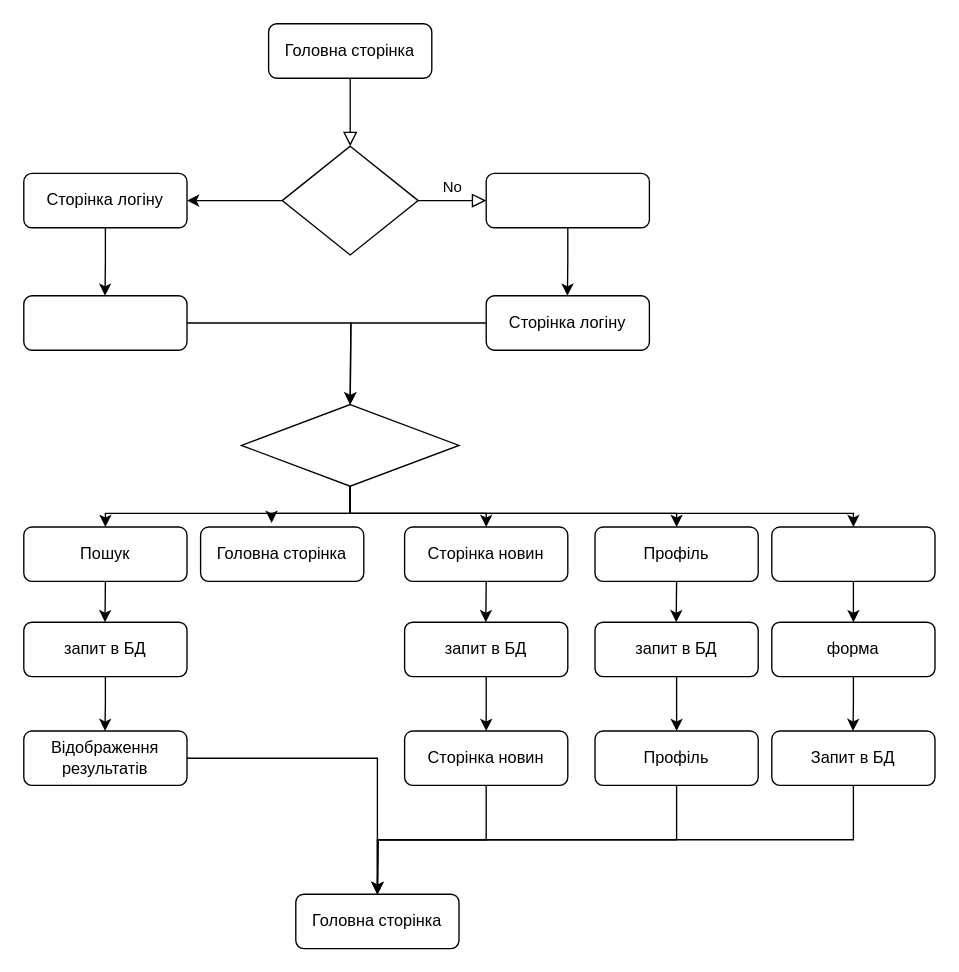
This 959x972 diagram has some shape labels left out. Each missing label, with the centre of its shape:
Вибір дії: point 349,444
Додати новину: point 852,553
Доступ до нових функцій: point 104,322
Сторінка реєстрації: point 567,200
Чи є у користувача аккаунт?: point 349,200
